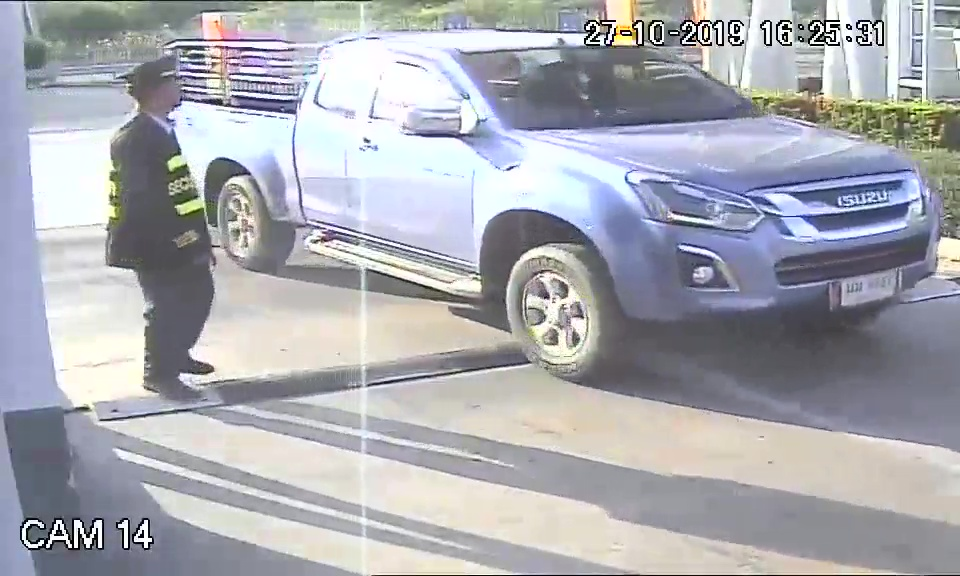pickup: (209, 27, 947, 385)
